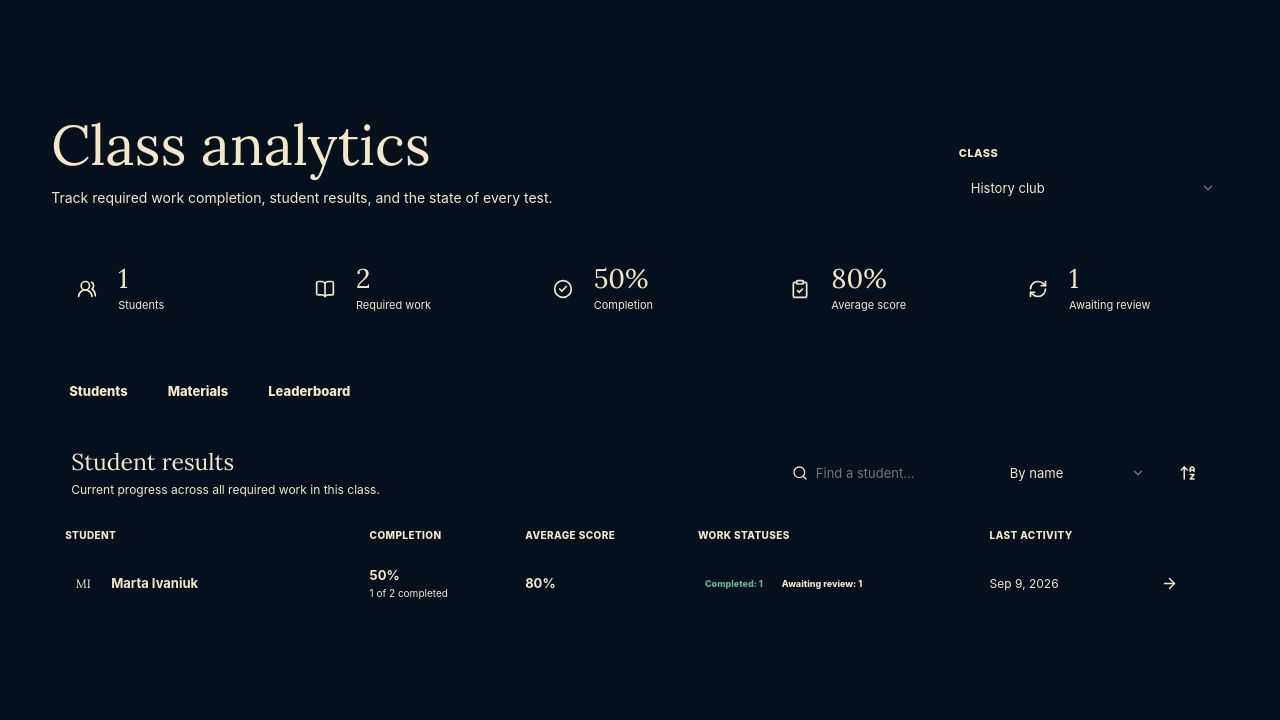
Teacher analytics pages › selects the requested class and switches between students and materials
This screenshot has width=1280, height=720.
Expected: the heading "Class analytics" is shown, x1=51 y1=109 x2=431 y2=180
Expected: the dropdown labelled "Class" shows "History club", x1=959 y1=167 x2=1229 y2=209
Click the tab "Materials". click: (198,390)
box: x1=150 y1=369 x2=246 y2=412
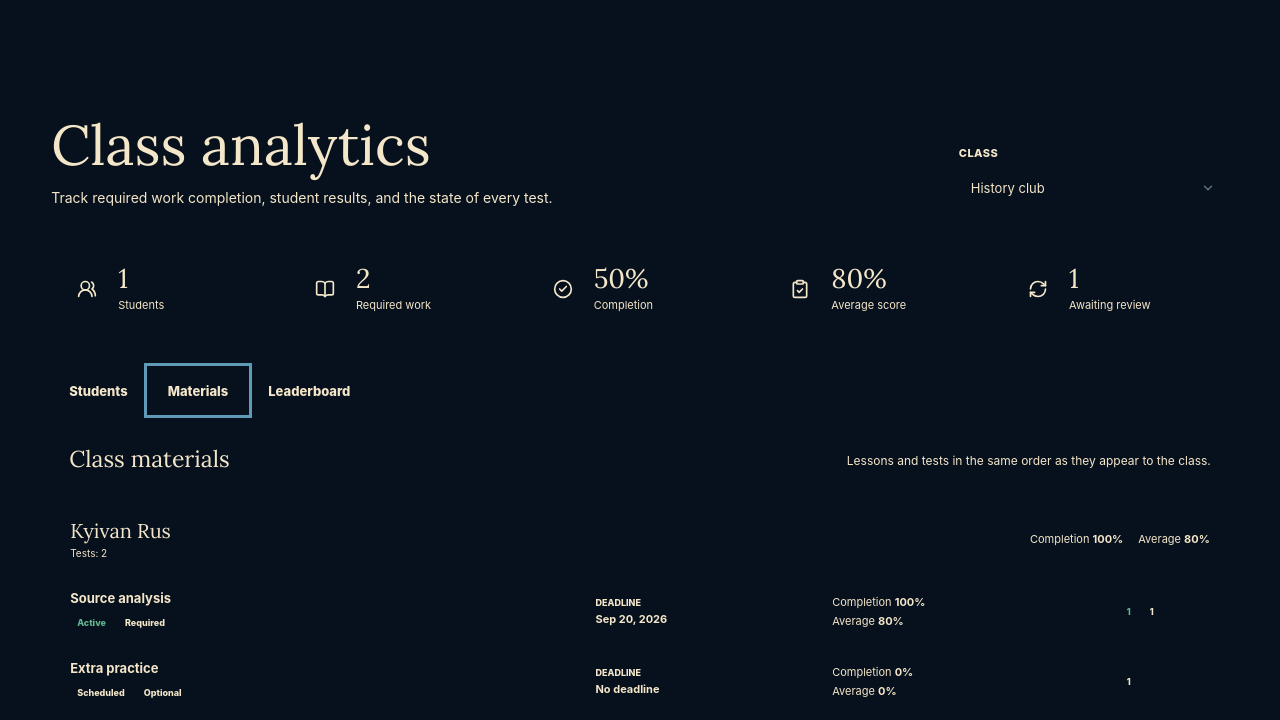
Now the text "Source analysis" is shown, box x1=70 y1=590 x2=171 y2=606
Now the text "Optional" is shown, box x1=144 y1=687 x2=182 y2=698
Click the tab "Leaderboard". click: (309,390)
box: x1=250 y1=369 x2=368 y2=412
(page scrolled)
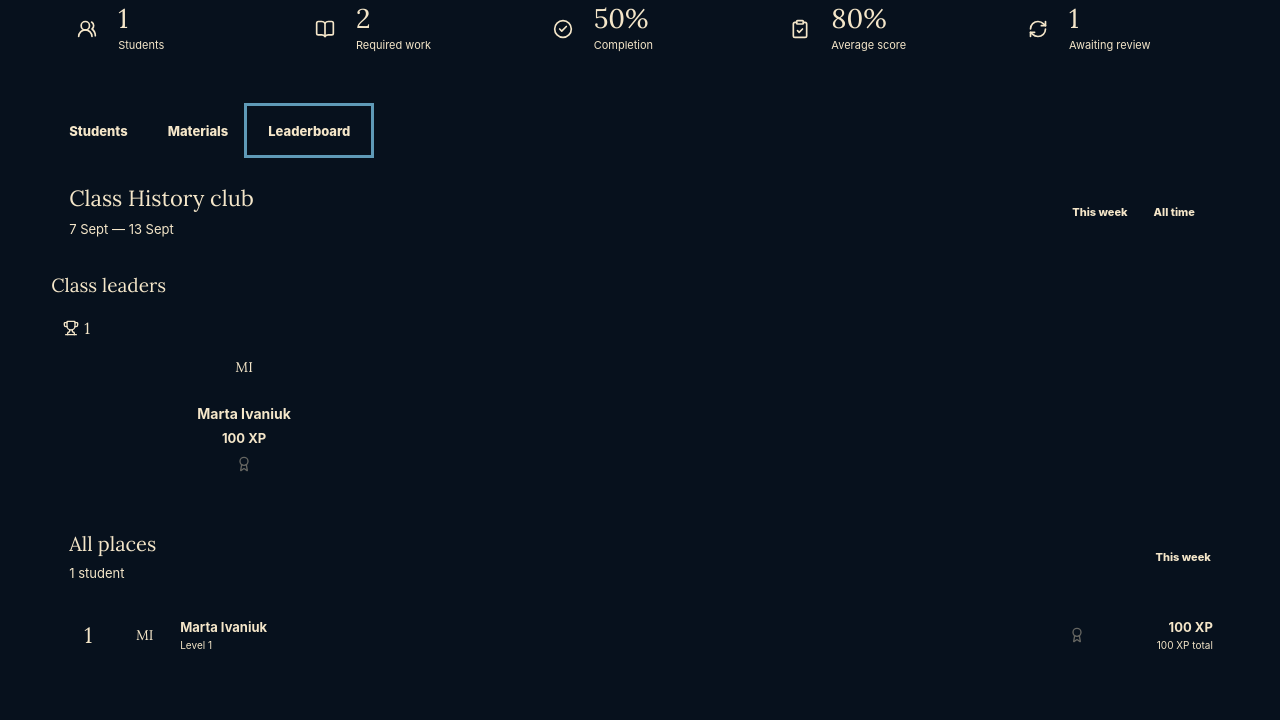
Now the heading "Class leaders" is shown, box x1=51 y1=273 x2=166 y2=297
